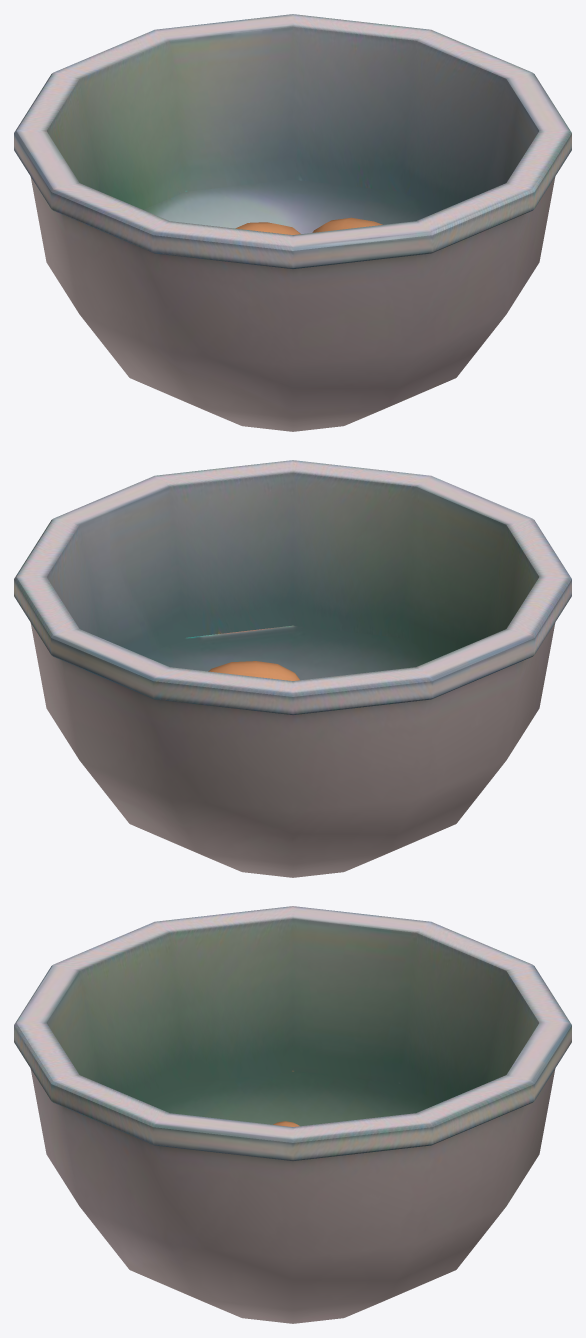
The model's file is mixingBowlSugarEggs.gltf.
3 renders of one model, top to bottom at view 1: azimuth 30°, elevation 25°; view 2: azimuth 150°, elevation 25°; view 3: azimuth 270°, elevation 25°, orthographic.
Visible parts, largest first — view 1: MixingBowl, Egg05.001; view 2: MixingBowl, Egg04.001; view 3: MixingBowl.
Boxes of the visible parts, bbox=[...] form: MixingBowl: bbox=[14, 14, 571, 431]; Egg05.001: bbox=[312, 217, 382, 232]; MixingBowl: bbox=[14, 460, 571, 877]; Egg04.001: bbox=[208, 661, 299, 680]; MixingBowl: bbox=[14, 906, 571, 1323].
Size of the model in its own units: 0.3931 by 0.2142 by 0.3931.
3 materials, 3 textured.
